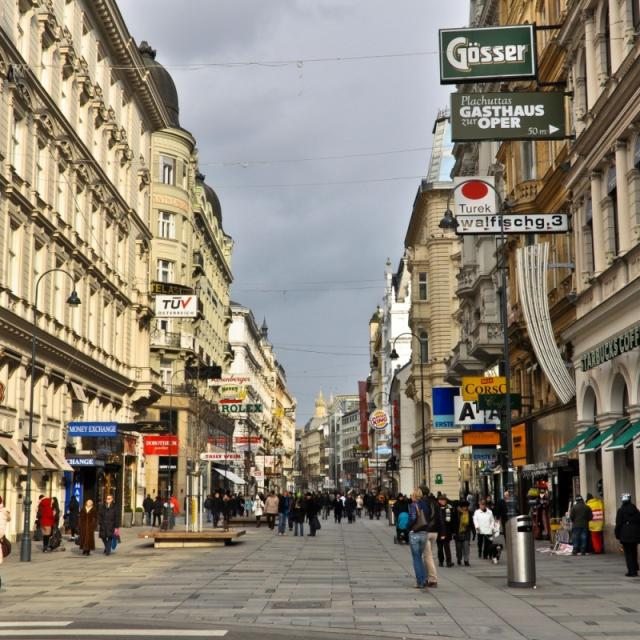body: (418, 484, 447, 588), (404, 486, 430, 589), (613, 492, 639, 578), (287, 488, 330, 538), (450, 498, 477, 566), (96, 493, 122, 556), (568, 493, 594, 556), (436, 494, 458, 568), (471, 499, 495, 560), (583, 492, 606, 555), (73, 498, 98, 555), (0, 494, 13, 590), (498, 490, 518, 550), (38, 493, 56, 552), (390, 492, 410, 542), (46, 496, 64, 549), (287, 491, 307, 537), (262, 489, 279, 530), (276, 490, 291, 536), (304, 491, 318, 537), (374, 491, 394, 521), (67, 494, 79, 540), (209, 492, 223, 529), (252, 493, 266, 528), (141, 492, 155, 526), (150, 495, 163, 527), (344, 493, 357, 525), (229, 492, 245, 518), (182, 492, 194, 526), (330, 493, 344, 522), (169, 494, 180, 527), (202, 493, 214, 522), (365, 491, 377, 520), (222, 492, 231, 526), (354, 494, 364, 520), (485, 494, 496, 517), (339, 491, 347, 520), (244, 496, 254, 519), (362, 490, 370, 516), (429, 488, 449, 498), (330, 491, 336, 510), (404, 492, 412, 505), (352, 492, 358, 498)
